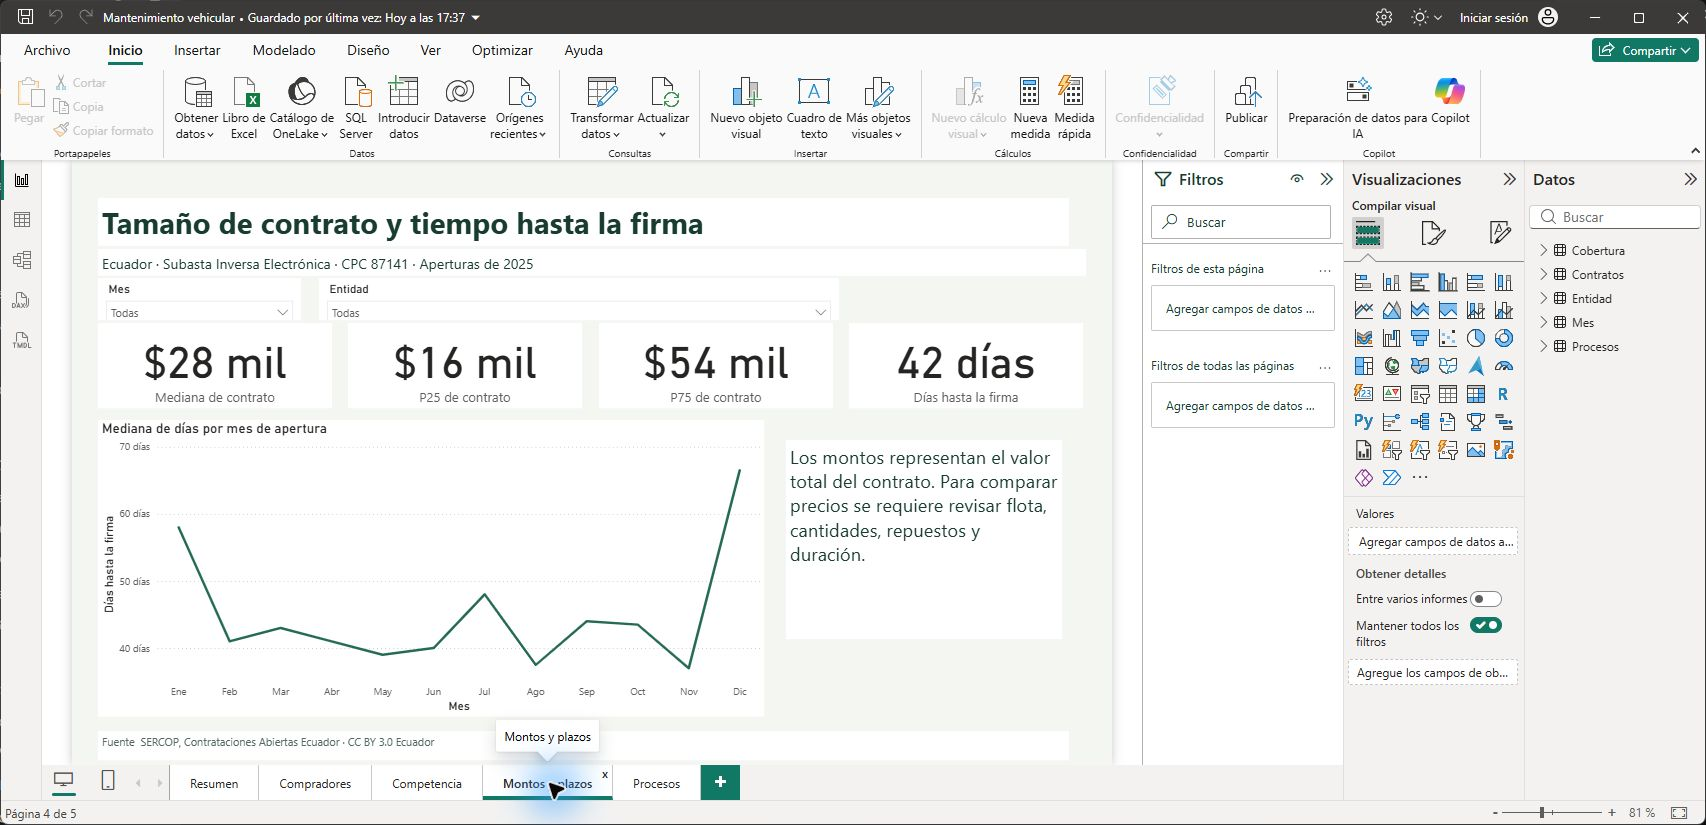

The page's visual inventory and layout, read from the dashboard file:
{"tool":"powerbi","page":{"name":"Montos y plazos","canvas":[1280,720],"ordinal":3},"visuals":[{"type":"textbox","box":[32,22,1195,59],"z":100},{"type":"textbox","box":[32,85,1216,33],"z":200},{"type":"slicer","fields":{"Values":["Mes.Mes"]},"box":[32,121,250,52],"z":300},{"type":"slicer","fields":{"Values":["Entidad.Entidad"]},"box":[304,121,640,52],"z":400},{"type":"textbox","box":[32,678,1195,36],"z":500},{"type":"card","fields":{"Values":["Procesos.Mediana de contrato"]},"box":[32,176,288,105],"z":600},{"type":"card","fields":{"Values":["Procesos.P25 de contrato"]},"box":[340,176,288,105],"z":700},{"type":"card","fields":{"Values":["Procesos.P75 de contrato"]},"box":[648,176,288,105],"z":800},{"type":"card","fields":{"Values":["Procesos.Días hasta la firma"]},"box":[956,176,288,105],"z":900},{"type":"lineChart","title":"Mediana de días por mes de apertura","fields":{"Category":["Mes.Mes"],"Y":["Procesos.Días hasta la firma"]},"box":[32,295,820,365],"z":1000},{"type":"textbox","box":[879,320,340,245],"z":1100}]}

Visuals, with their boxes on the page's 1280x720 design canvas (x1, y1, x2, y2). These are canvas units, not pixel positions in the 1706x825 screenshot, which may show the page scaled, cropped or inside an application window:
textbox: rect(32, 22, 1227, 81)
textbox: rect(32, 85, 1248, 118)
slicer - Mes.Mes: rect(32, 121, 282, 173)
slicer - Entidad.Entidad: rect(304, 121, 944, 173)
textbox: rect(32, 678, 1227, 714)
card - Procesos.Mediana de contrato: rect(32, 176, 320, 281)
card - Procesos.P25 de contrato: rect(340, 176, 628, 281)
card - Procesos.P75 de contrato: rect(648, 176, 936, 281)
card - Procesos.Días hasta la firma: rect(956, 176, 1244, 281)
"Mediana de días por mes de apertura" lineChart: rect(32, 295, 852, 660)
textbox: rect(879, 320, 1219, 565)
